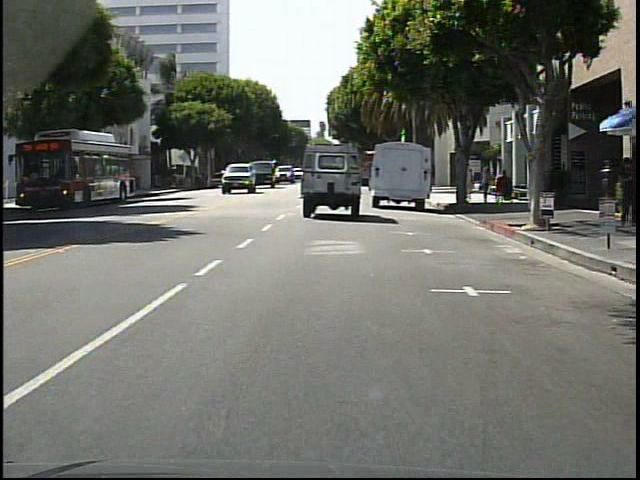person: (610, 160, 634, 229), (463, 161, 476, 203), (481, 166, 494, 204)
